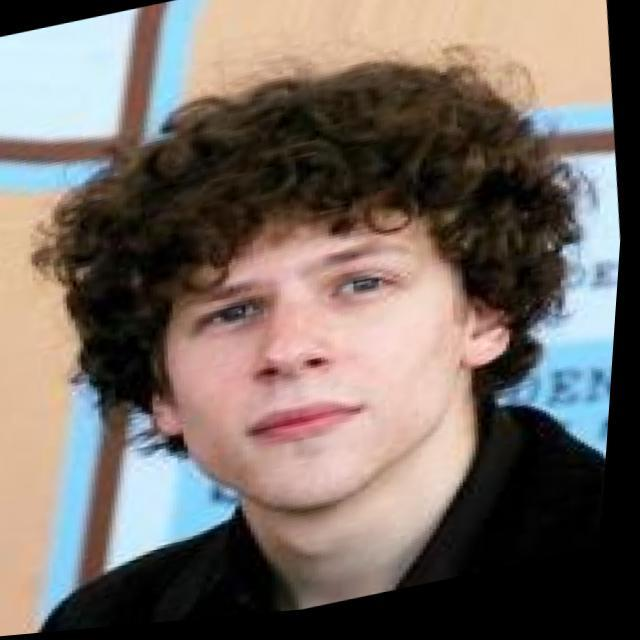Nonhelmet: (30, 46, 580, 515)
